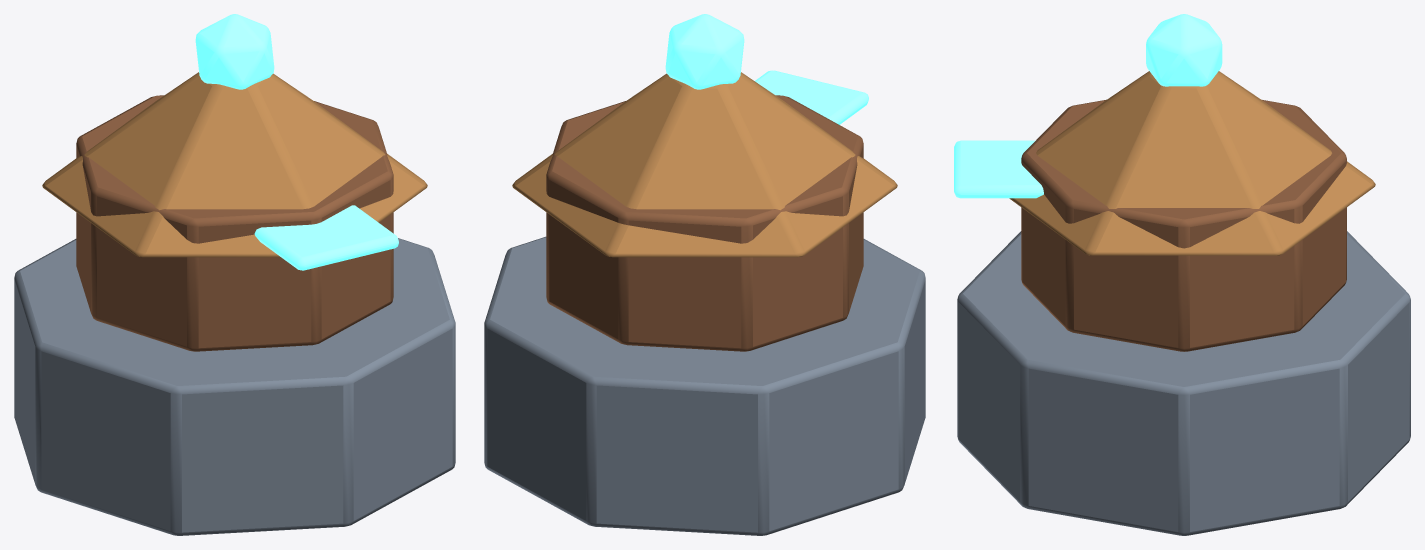
File: archer_tower.glb
3 views of the same model, side by side, from view 1: azimuth 30°, elevation 25°; view 2: azimuth 150°, elevation 25°; view 3: azimuth 270°, elevation 25° (orthographic).
Parts seen in each view (by area): view 1: Base-col, Turret, Roof, Banner, Crystal; view 2: Base-col, Turret, Roof, Crystal, Banner; view 3: Base-col, Turret, Roof, Crystal, Banner.
Part boxes in pixels (<box>): Base-col: <box>14,238,455,535</box>; Turret: <box>76,95,393,351</box>; Roof: <box>42,72,427,257</box>; Banner: <box>254,205,398,270</box>; Crystal: <box>195,14,274,89</box>; Base-col: <box>484,236,925,535</box>; Turret: <box>546,95,863,351</box>; Roof: <box>512,72,897,257</box>; Crystal: <box>665,14,744,89</box>; Banner: <box>755,70,868,124</box>; Base-col: <box>957,231,1410,535</box>; Turret: <box>1021,99,1346,351</box>; Roof: <box>1009,71,1375,255</box>; Crystal: <box>1146,14,1222,86</box>; Banner: <box>954,140,1043,198</box>.
Size of the model in its own units: 2.48 by 2.59 by 2.5.
